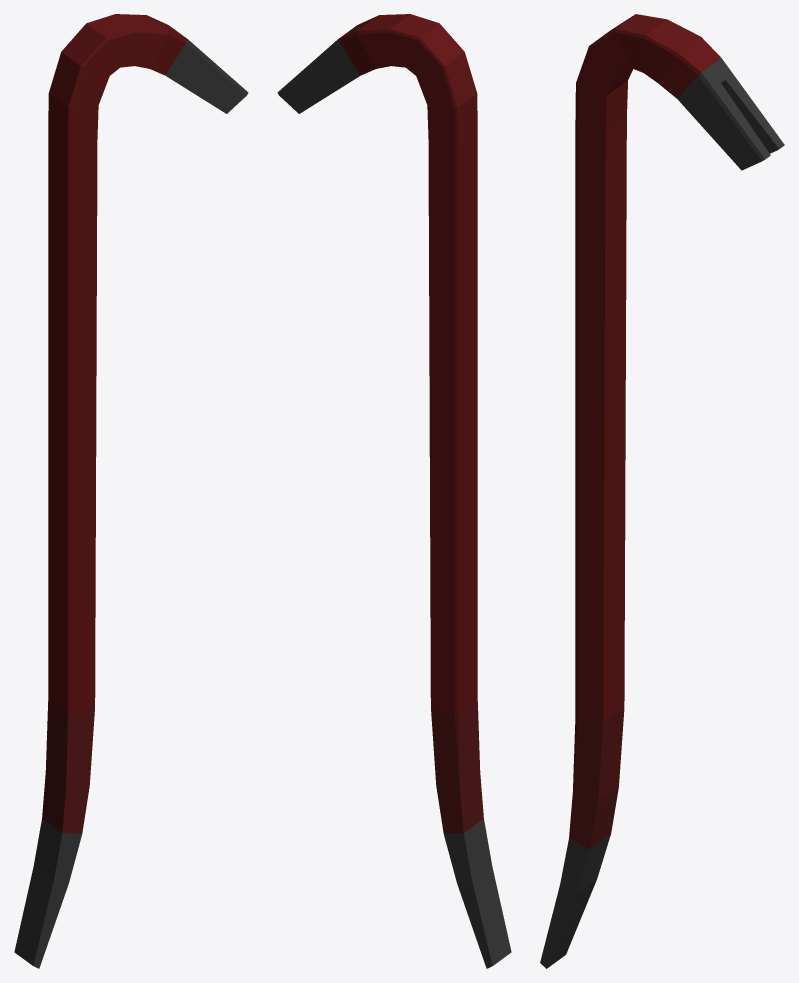
File: Crowbar.fbx
The picture shows the model from 3 angles, left to right: view 1: azimuth 30°, elevation 25°; view 2: azimuth 150°, elevation 25°; view 3: azimuth 330°, elevation 25°; orthographic projection. The views are drawn at different scales.
Visible parts, largest first — view 1: Crowbar; view 2: Crowbar; view 3: Crowbar.
Part boxes in pixels (bbox=[...]): Crowbar: bbox=[14, 14, 248, 968]; Crowbar: bbox=[277, 14, 511, 968]; Crowbar: bbox=[540, 14, 784, 968].
Size of the model in its own units: 340 by 1383 by 62.51.
Materials: 1 (1 with a texture image).
